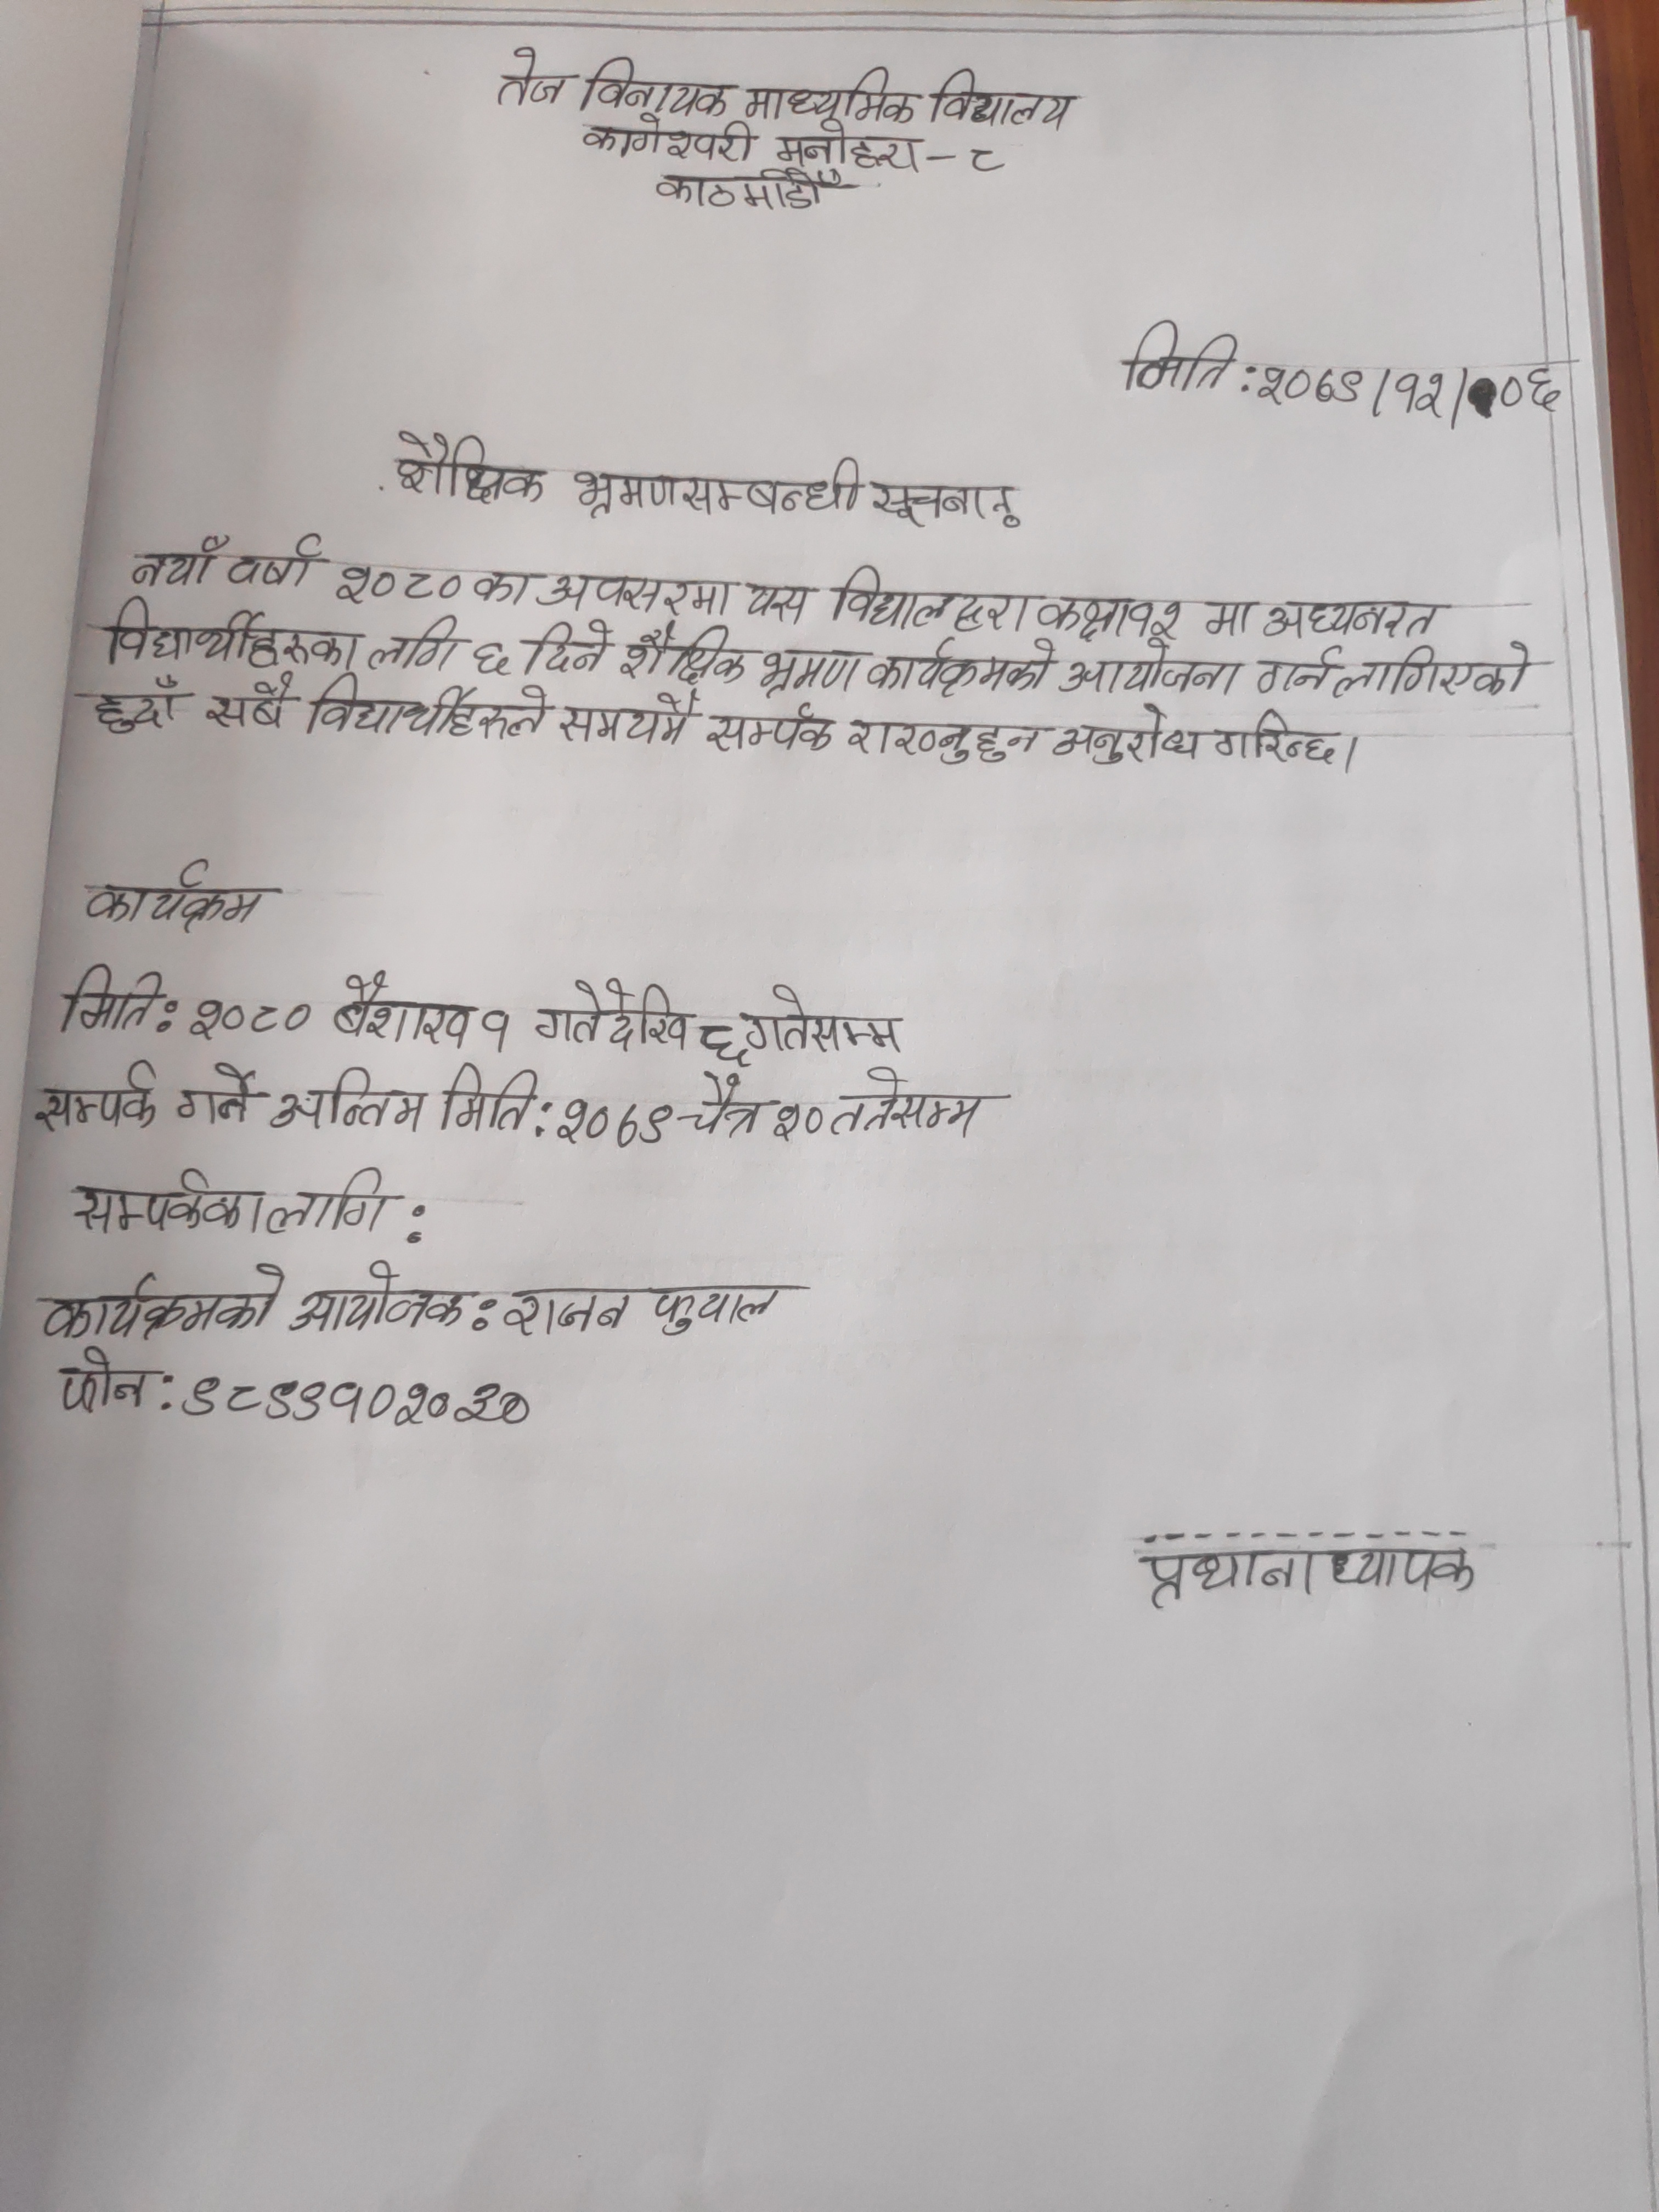text: (1133, 1543, 1476, 1608), (181, 1372, 537, 1428), (40, 1259, 284, 1339), (99, 597, 361, 671), (1255, 361, 1567, 421), (570, 455, 866, 517), (305, 671, 549, 744), (831, 563, 1030, 637), (84, 859, 282, 930), (286, 1259, 471, 1334), (831, 1068, 1014, 1143), (1337, 641, 1544, 704), (73, 1167, 261, 1235), (535, 979, 697, 1057), (390, 430, 547, 510), (329, 968, 476, 1050), (746, 984, 913, 1055), (274, 1062, 430, 1137), (868, 636, 1056, 695), (653, 162, 863, 212), (1063, 641, 1246, 698), (1053, 700, 1204, 768), (1119, 315, 1239, 401), (584, 54, 737, 120), (931, 66, 1084, 132), (845, 716, 1053, 765), (547, 568, 735, 620), (263, 1167, 399, 1238), (744, 68, 920, 122), (35, 1061, 162, 1134), (643, 1278, 798, 1338), (579, 115, 756, 165), (870, 474, 1023, 531), (1263, 594, 1457, 637), (622, 622, 756, 685), (558, 693, 702, 751), (775, 118, 925, 172), (63, 961, 164, 1040), (504, 1282, 638, 1339), (1211, 711, 1342, 768), (439, 1061, 535, 1137), (551, 1097, 674, 1155), (708, 700, 840, 752), (59, 1348, 159, 1416), (80, 676, 186, 737), (331, 561, 467, 608), (221, 533, 328, 590), (678, 1069, 767, 1137), (758, 641, 866, 697), (202, 671, 296, 733), (178, 1059, 261, 1129), (185, 996, 310, 1042), (368, 615, 469, 671), (127, 531, 223, 589), (525, 620, 617, 676), (1039, 592, 1133, 641), (497, 45, 572, 105), (1253, 646, 1344, 693), (742, 583, 823, 624), (471, 564, 538, 606), (1126, 599, 1187, 643), (770, 1103, 828, 1146), (699, 1019, 746, 1068), (1202, 597, 1262, 636), (479, 1003, 519, 1059), (472, 639, 514, 679), (964, 143, 1009, 179)
